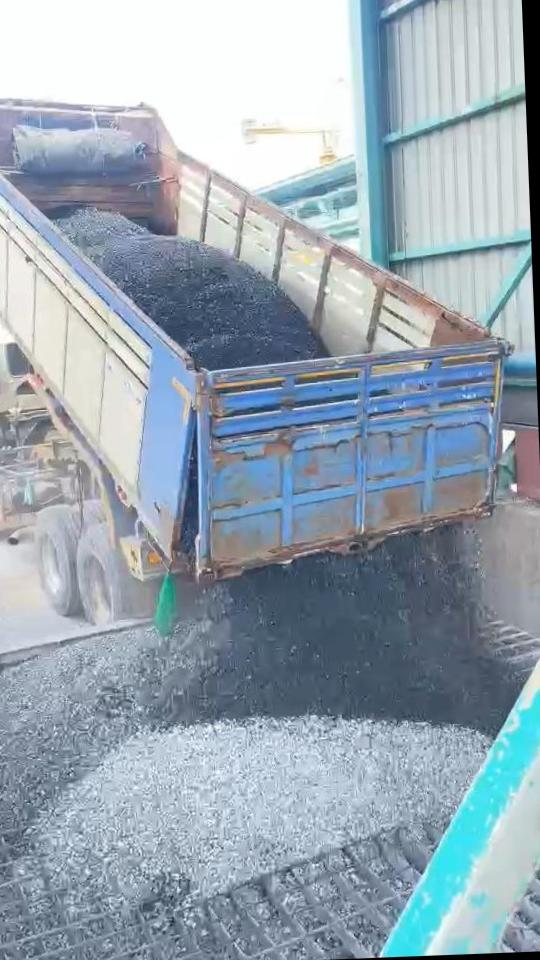gravel: (0, 533, 517, 900), (56, 208, 327, 367), (182, 461, 198, 552)
